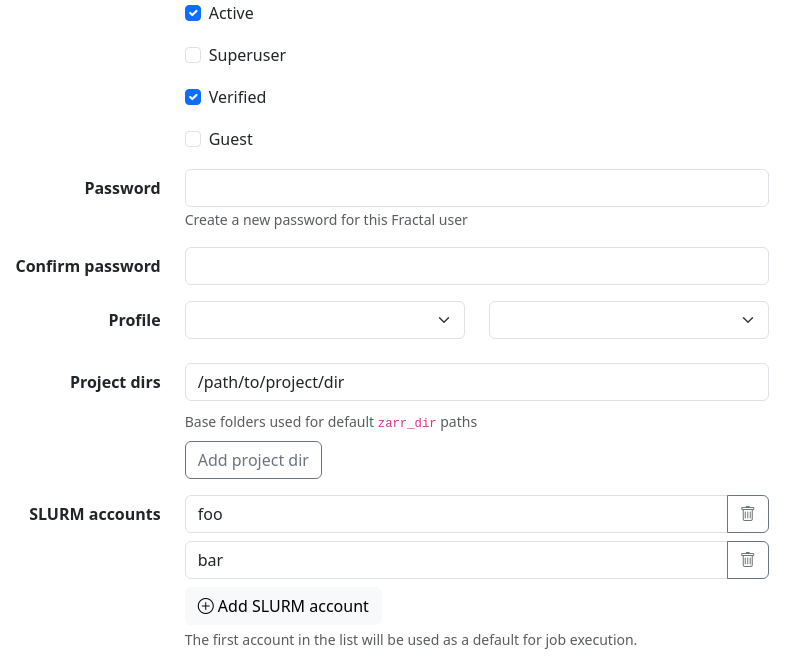
Test: UserEditor › Update settings - remove slurm account
The width and height of the screenshot is (786, 661).
Expected: the field named "Project dir" holds "/path/to/project/dir", [185,363,769,401]
Click the button named "Remove SLURM account #2". click: (748, 560)
box: [727,541,769,579]
(page scrolled)
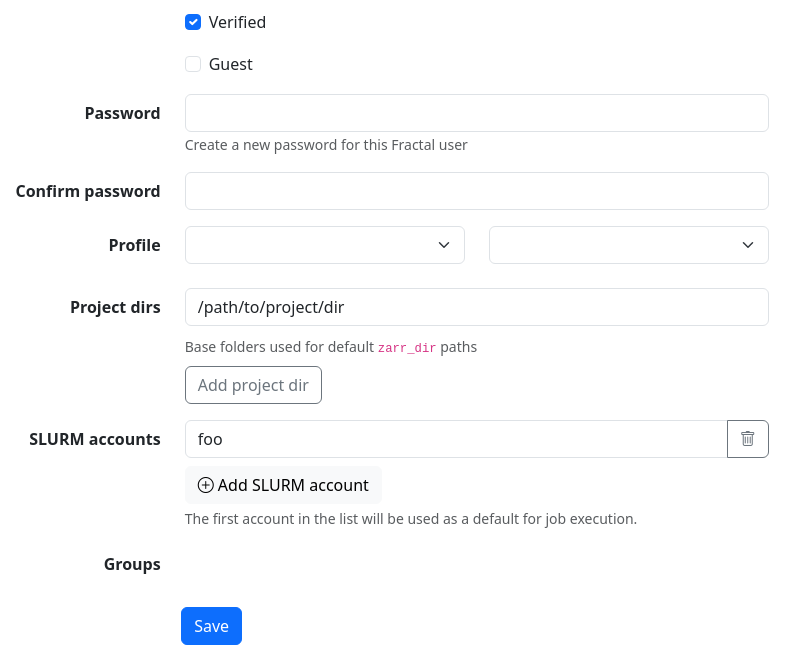
Click the button "Save". click: (212, 626)
box: [181,607,242,645]
(page scrolled)
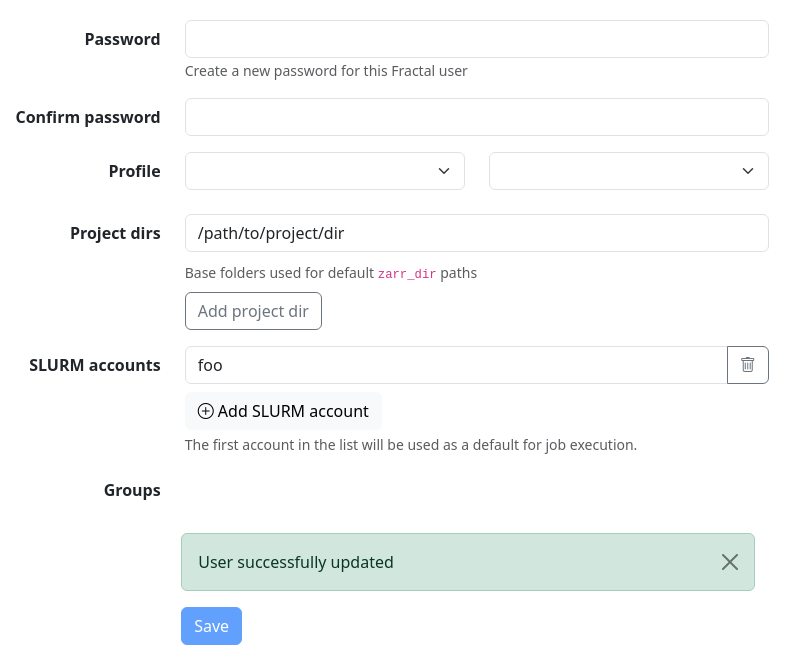
Result: the text "User successfully updated" is shown at [181,533,755,591]
